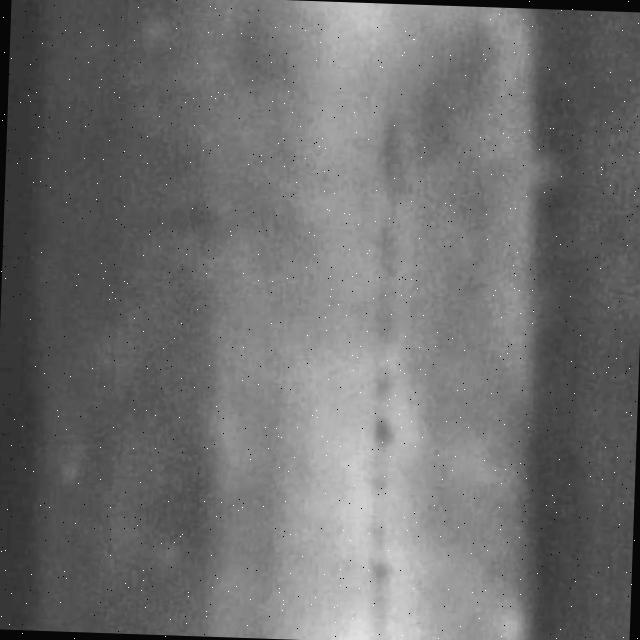LoP-LoF: (339, 68, 429, 640)
